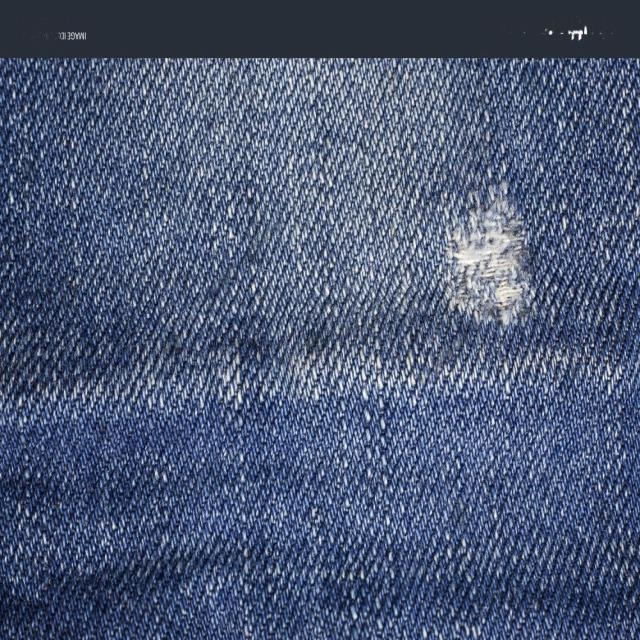Hole: (446, 168, 535, 326)
